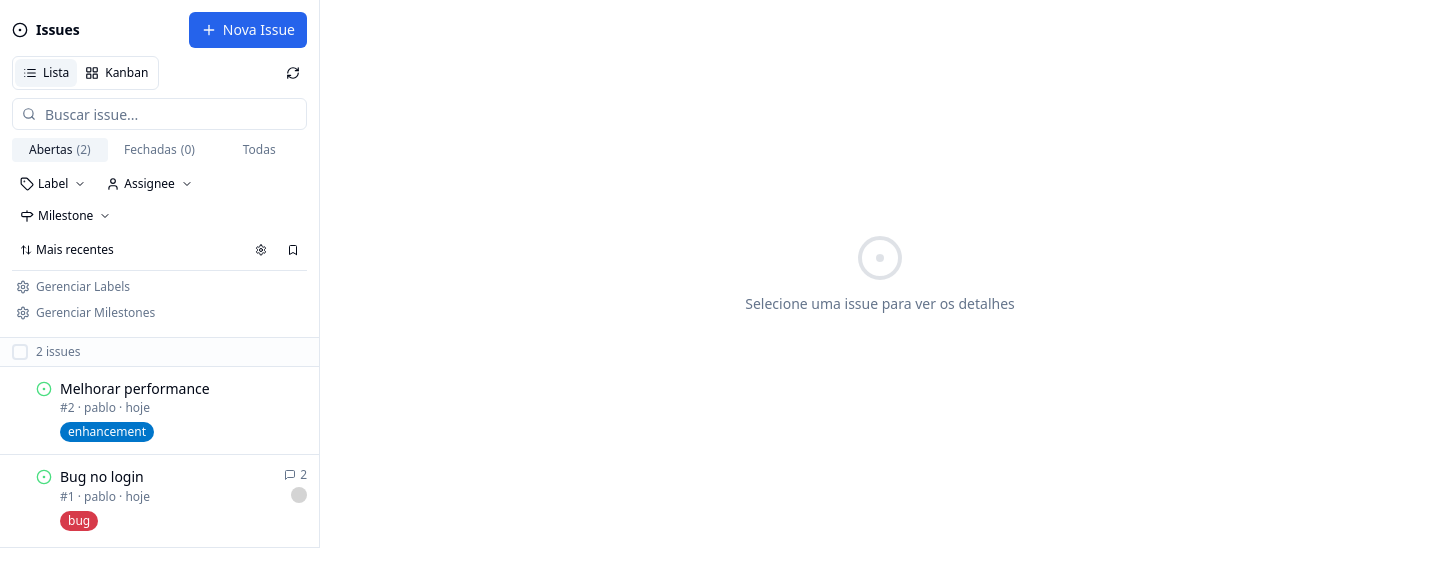
Test: IssuesManager › comentários › botão "Comentar" fica desabilitado quando textarea vazio
The image size is (1440, 565).
Click the text "Bug no login" at (102, 477), box [60, 467, 144, 487]
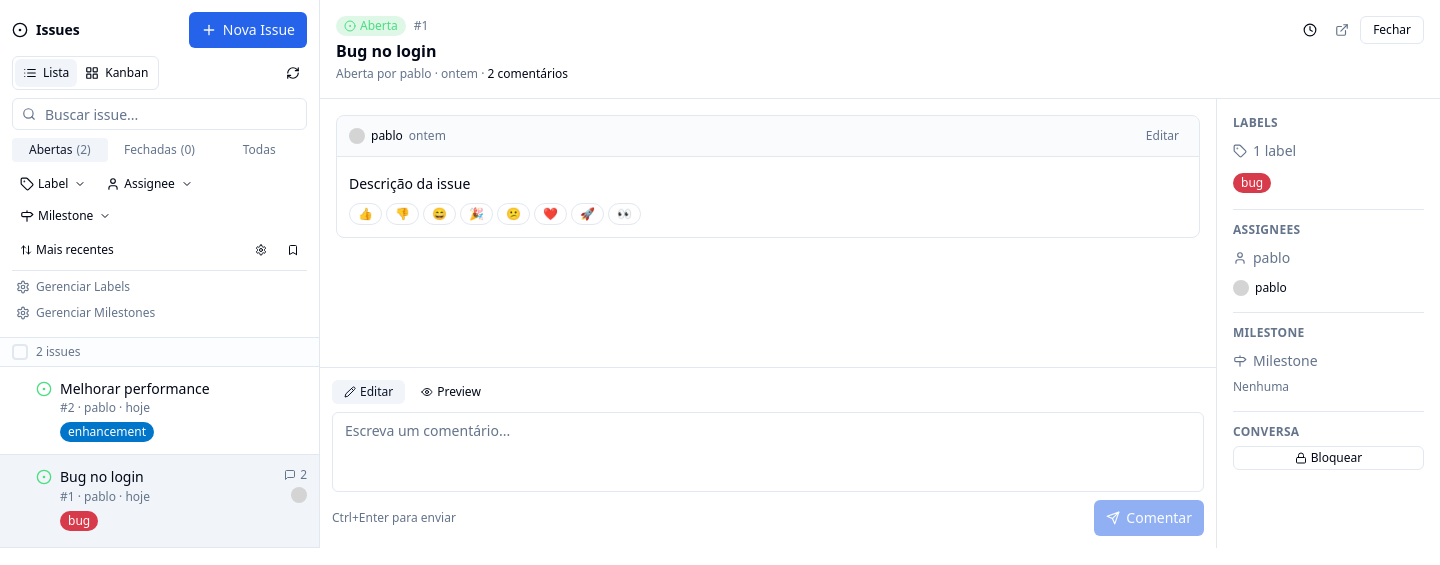
Now the button "Comentar" is disabled, box [1094, 500, 1204, 536]
